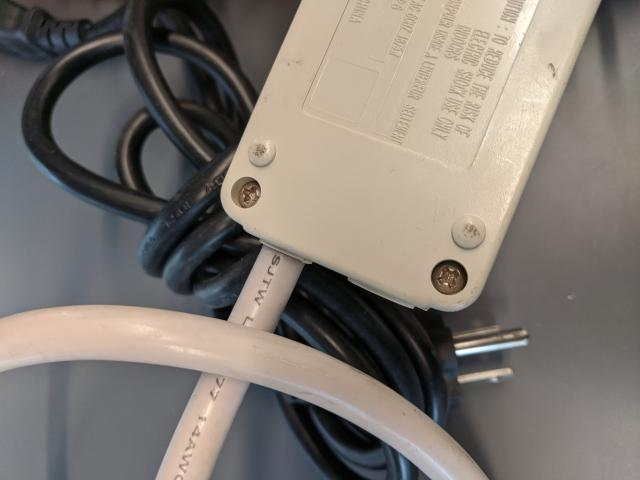CRS: (429, 261, 469, 297), (234, 182, 265, 211)
